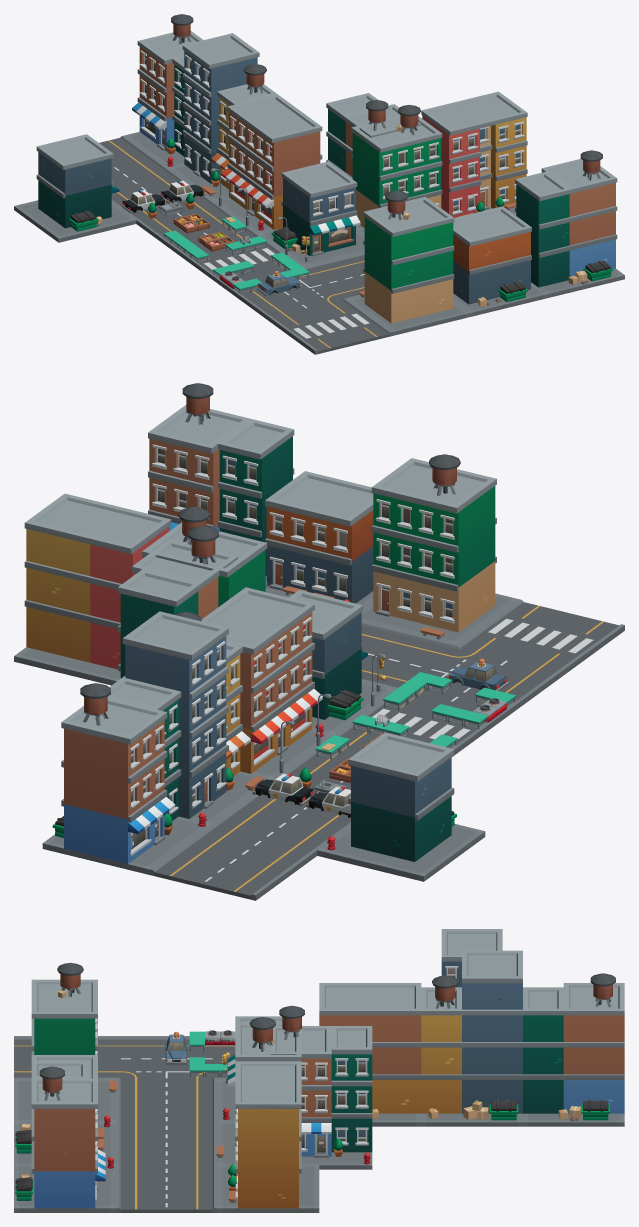
The model's file is map3_basic_ex.glb.
The picture shows the model from 3 angles, top to bottom: view 1: azimuth 30°, elevation 25°; view 2: azimuth 150°, elevation 25°; view 3: azimuth 270°, elevation 25°; orthographic projection. The views are drawn at different scales.
Parts seen in each view (by area): view 1: building_F; view 2: building_F; view 3: building_F.
Boxes of the visible parts, <box> form: building_F: <box>14,14,624,354</box>; building_F: <box>14,383,624,900</box>; building_F: <box>14,929,624,1212</box>.
Bounding box in the file's own units: 10 × 3.05 × 12.
65 materials, 65 textured.
